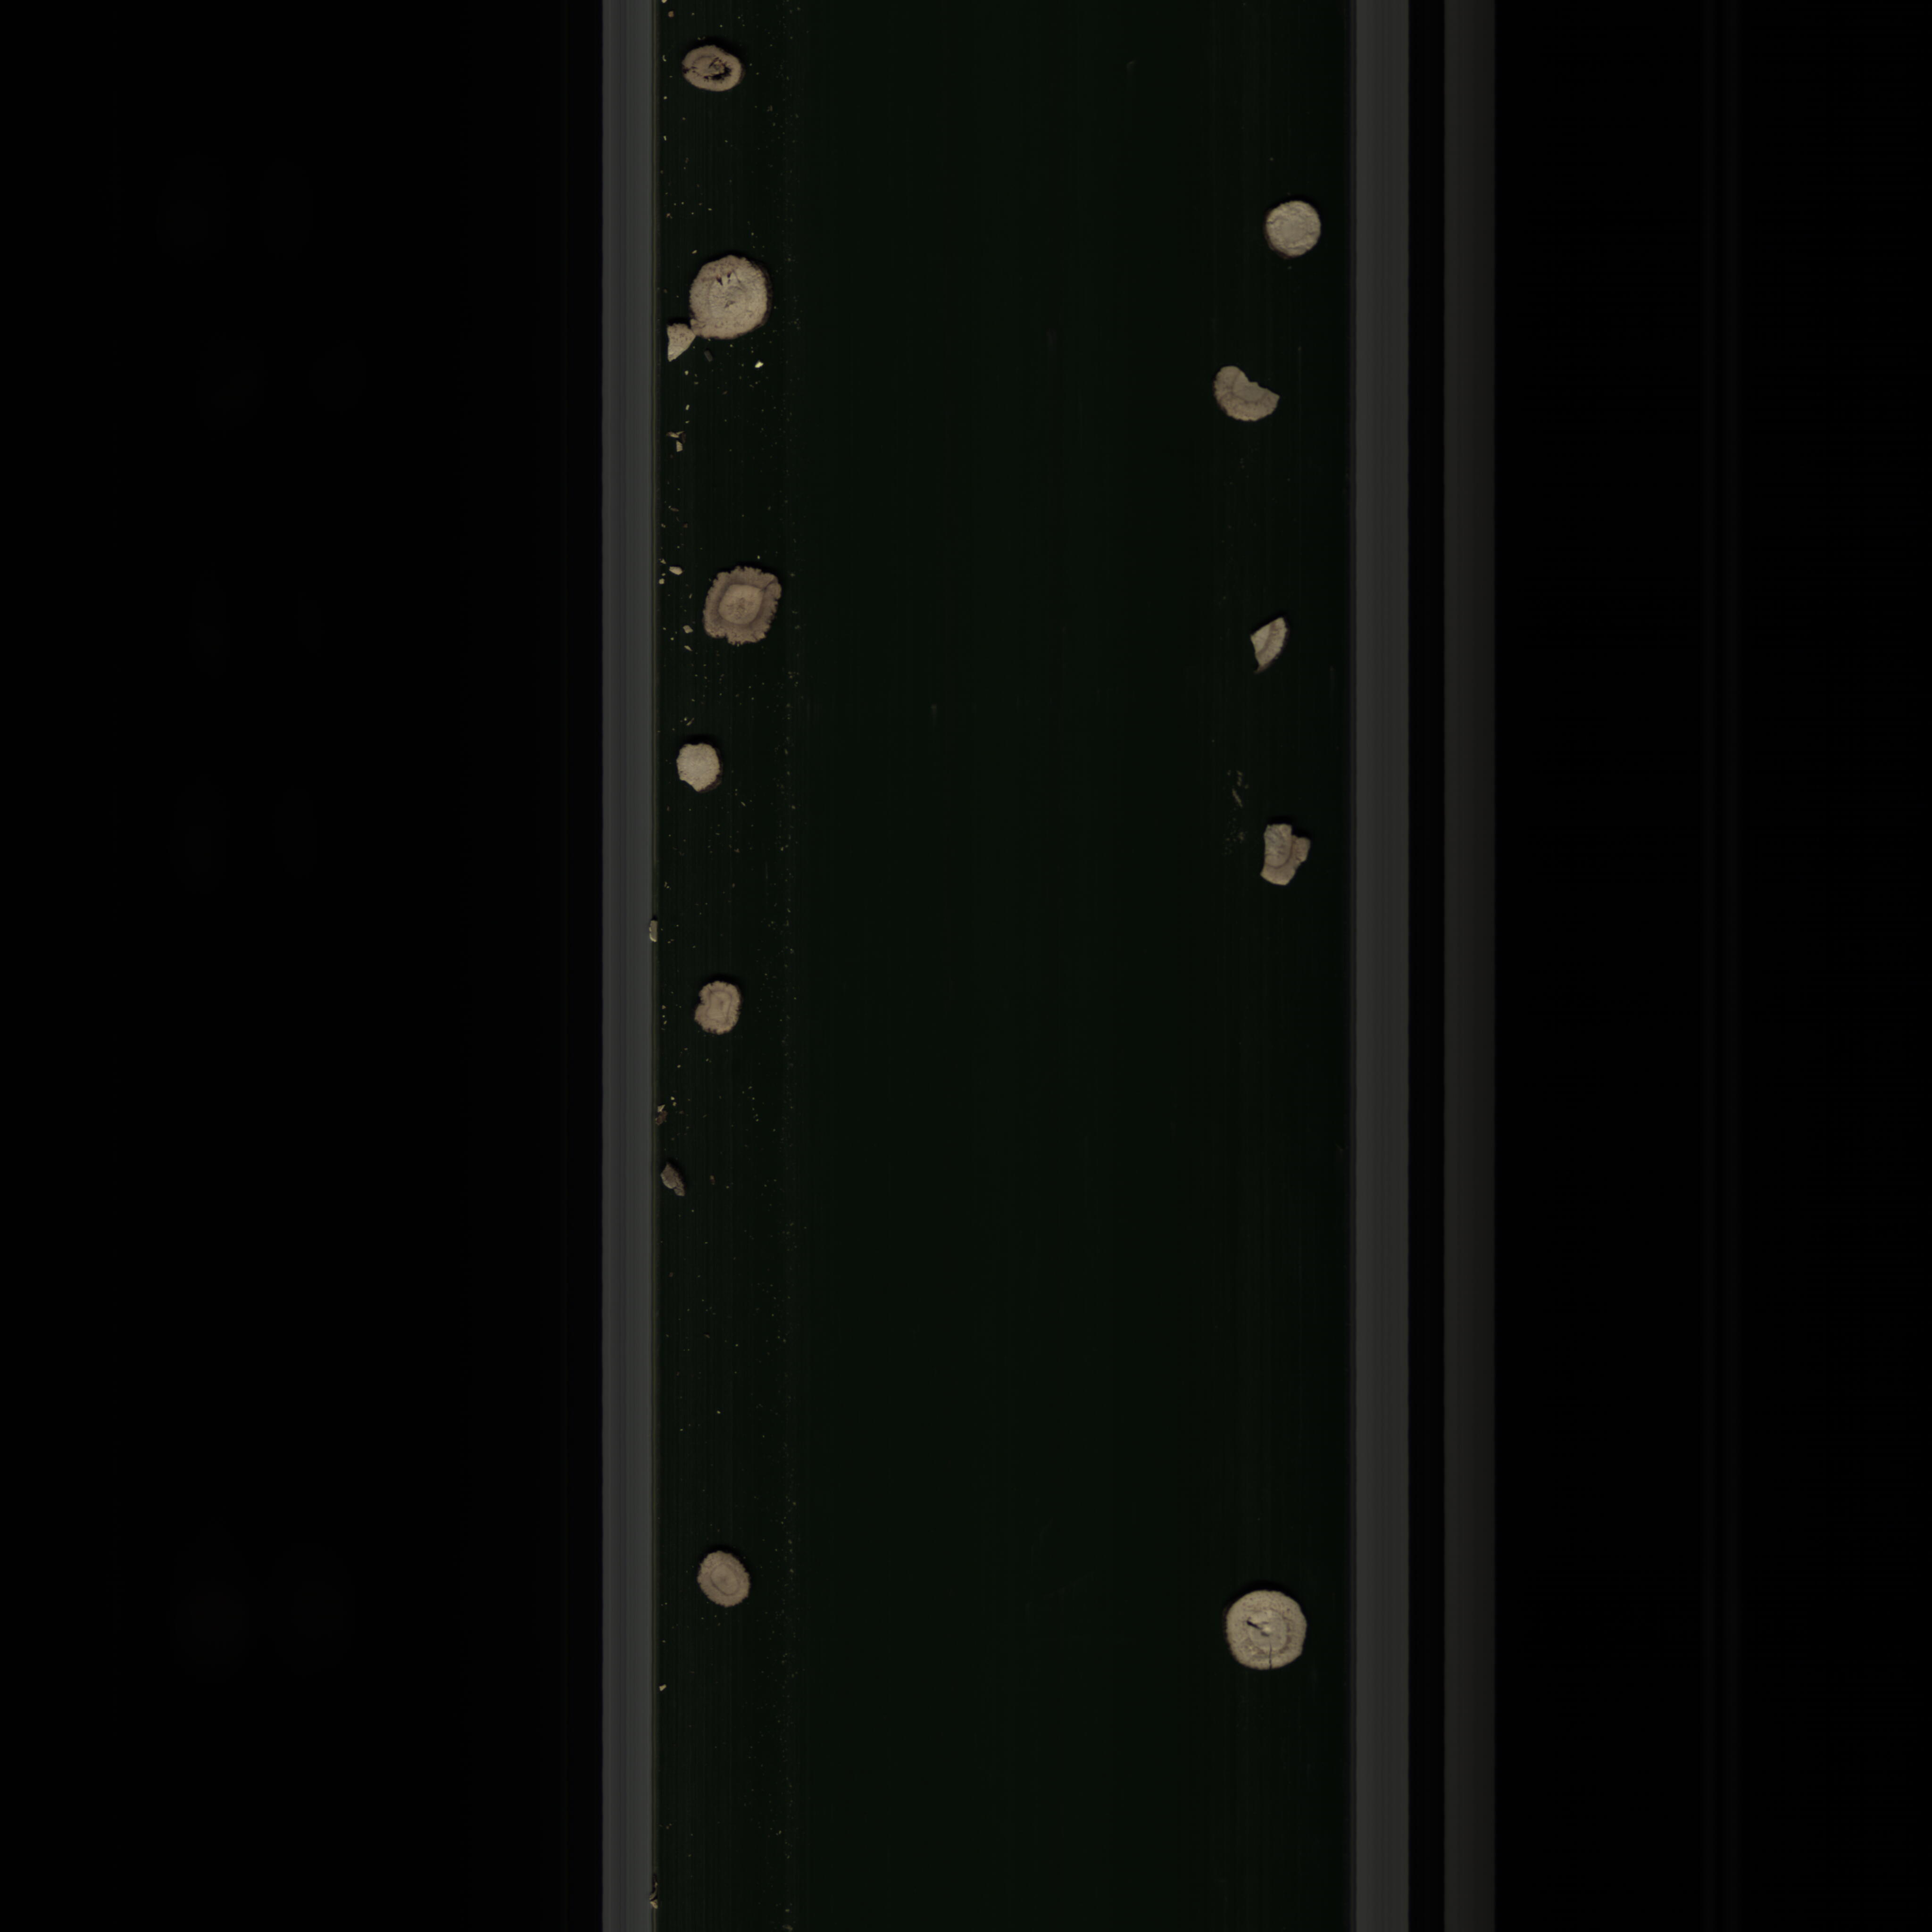debris: (1203, 356, 1292, 432), (1233, 609, 1293, 672)
moldy: (692, 563, 801, 655), (1246, 819, 1323, 901), (685, 971, 745, 1053), (679, 37, 755, 92)
